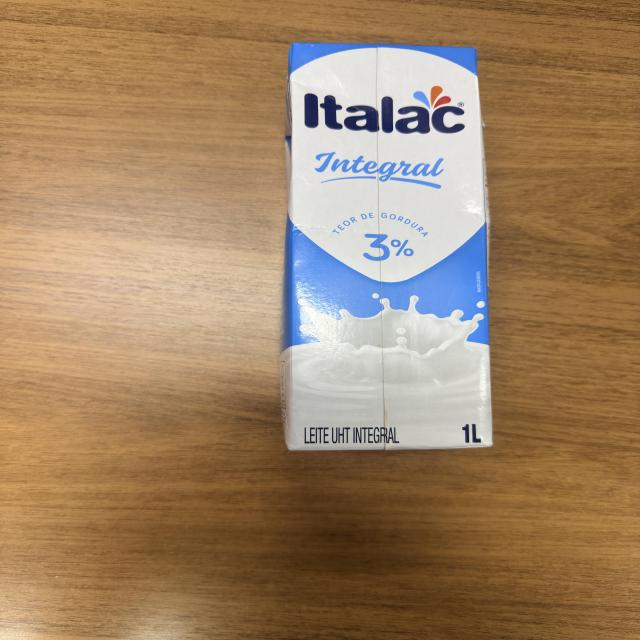Caixa de Leite: (280, 47, 494, 453)
